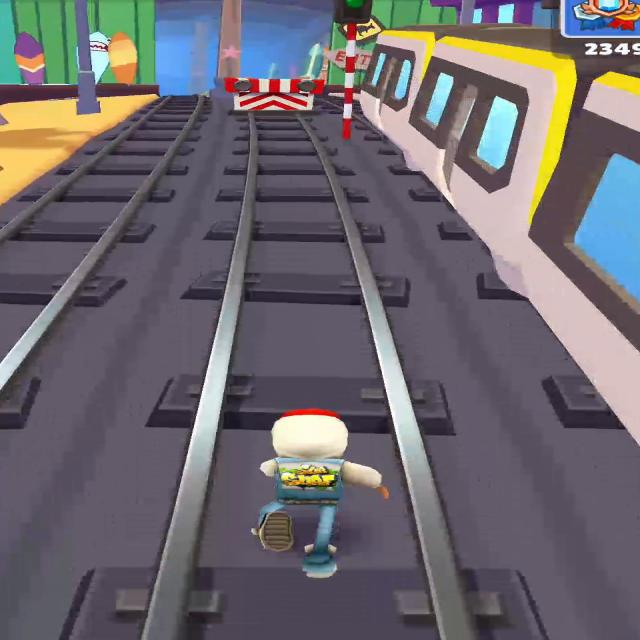block pillar: (216, 0, 241, 78)
roll blocker: (234, 79, 318, 111)
train: (380, 40, 640, 466), (395, 25, 584, 295), (359, 24, 485, 151)
